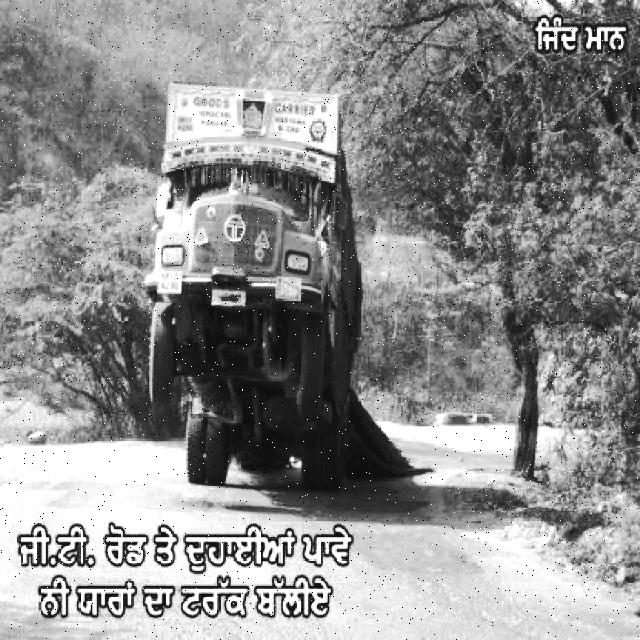HCV: (152, 85, 350, 447)
